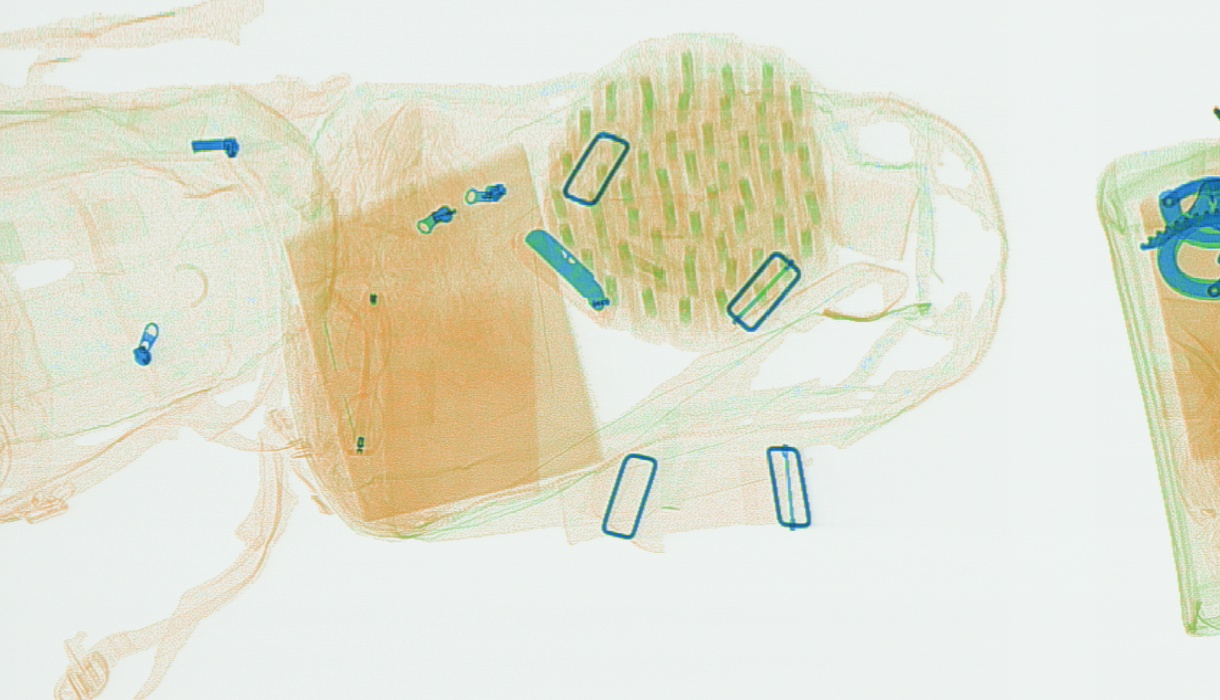firecrackers: (540, 26, 840, 354)
handcuffs: (1133, 167, 1217, 303)
knife: (516, 225, 618, 326)
